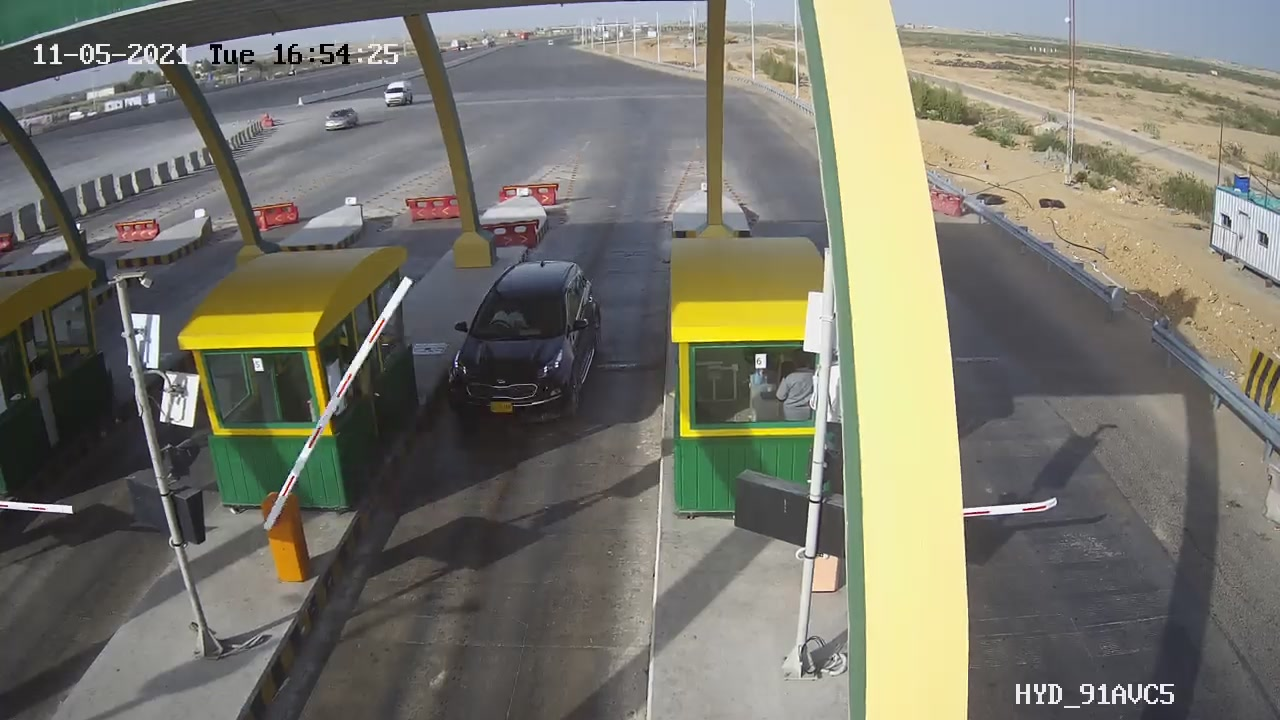F1: (429, 245, 626, 445)
